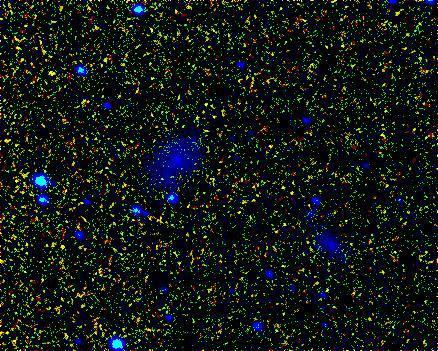star: (36, 60, 66, 90)
